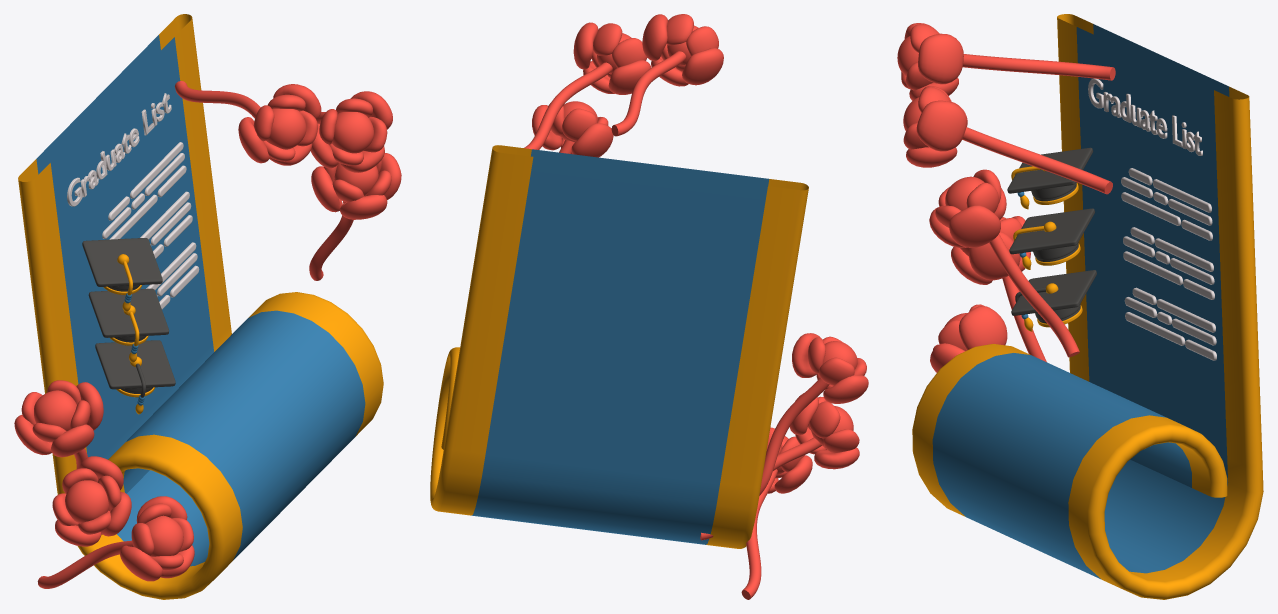
Rendered from Graduation list.glb.
The picture shows the model from 3 angles, left to right: view 1: azimuth 30°, elevation 25°; view 2: azimuth 150°, elevation 25°; view 3: azimuth 270°, elevation 25°; orthographic projection. The views are drawn at different scales.
Parts seen in each view (by area): view 1: Spiral.007, Plane.047, Plane.049, Plane.048, Text.011, Cube.248, Cube.308, Cube.288, NurbsPath.066, Cube.316, NurbsPath.069, Cube.292 (+20 smaller); view 2: Spiral.007, NurbsPath.082, NurbsPath.068, NurbsPath.069, Cube.310, NurbsPath.066, Cube.294, Cube.311, Cube.302, Cube.282, Cube.245, Cube.303 (+12 smaller); view 3: Spiral.007, Plane.048, NurbsPath.068, Text.011, NurbsPath.069, Cube.303, Plane.049, NurbsPath.067, Cube.311, Plane.047, Cube.295, Cube.243 (+15 smaller).
Part boxes in pixels (<box>): Spiral.007: <box>18,14,383,599</box>; Plane.047: <box>82,238,162,286</box>; Plane.049: <box>95,340,175,389</box>; Plane.048: <box>88,288,168,337</box>; Text.011: <box>67,93,171,206</box>; Cube.248: <box>65,480,108,523</box>; Cube.308: <box>331,112,373,153</box>; Cube.288: <box>34,390,76,430</box>; NurbsPath.066: <box>37,540,133,588</box>; Cube.316: <box>266,108,306,149</box>; NurbsPath.069: <box>174,81,260,118</box>; Cube.292: <box>145,515,183,556</box>; Spiral.007: <box>430,145,808,548</box>; NurbsPath.082: <box>759,377,829,495</box>; NurbsPath.068: <box>524,62,612,149</box>; NurbsPath.069: <box>611,51,685,136</box>; Cube.310: <box>682,48,723,85</box>; NurbsPath.066: <box>741,469,777,599</box>; Cube.294: <box>571,123,613,157</box>; Cube.311: <box>642,14,667,60</box>; Cube.302: <box>608,60,651,94</box>; Cube.282: <box>823,375,868,403</box>; Cube.245: <box>809,401,840,438</box>; Cube.303: <box>573,22,598,69</box>; Spiral.007: <box>912,14,1263,599</box>; Plane.048: <box>1009,208,1094,254</box>; NurbsPath.068: <box>962,127,1112,194</box>; Text.011: <box>1088,78,1202,155</box>; NurbsPath.069: <box>962,54,1115,80</box>; Cube.303: <box>916,100,966,151</box>; Plane.049: <box>1011,270,1096,315</box>; NurbsPath.067: <box>989,234,1079,357</box>; Cube.311: <box>918,33,963,84</box>; Plane.047: <box>1007,147,1093,193</box>; Cube.295: <box>949,205,1000,247</box>; Cube.243: <box>959,306,1007,350</box>.
Bounding box in the file's own units: 2 × 2.43 × 1.45.
